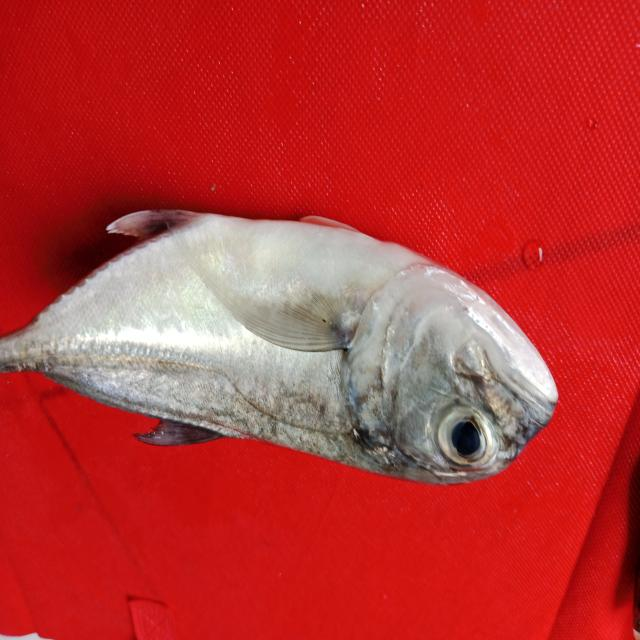ikan: (19, 180, 569, 504)
